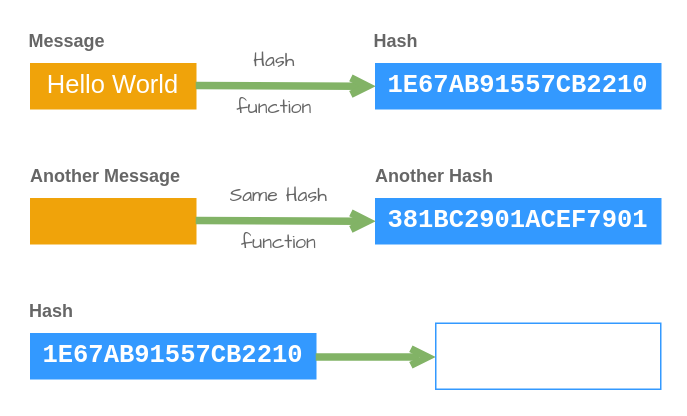
Image size: 687x416. Some labels were removed from this diagram. The centre of each missing label's shape, as x and y in pixels:
Hello World !: (112,220)
We cannot "reverse enginneer" the hash: (547,355)
